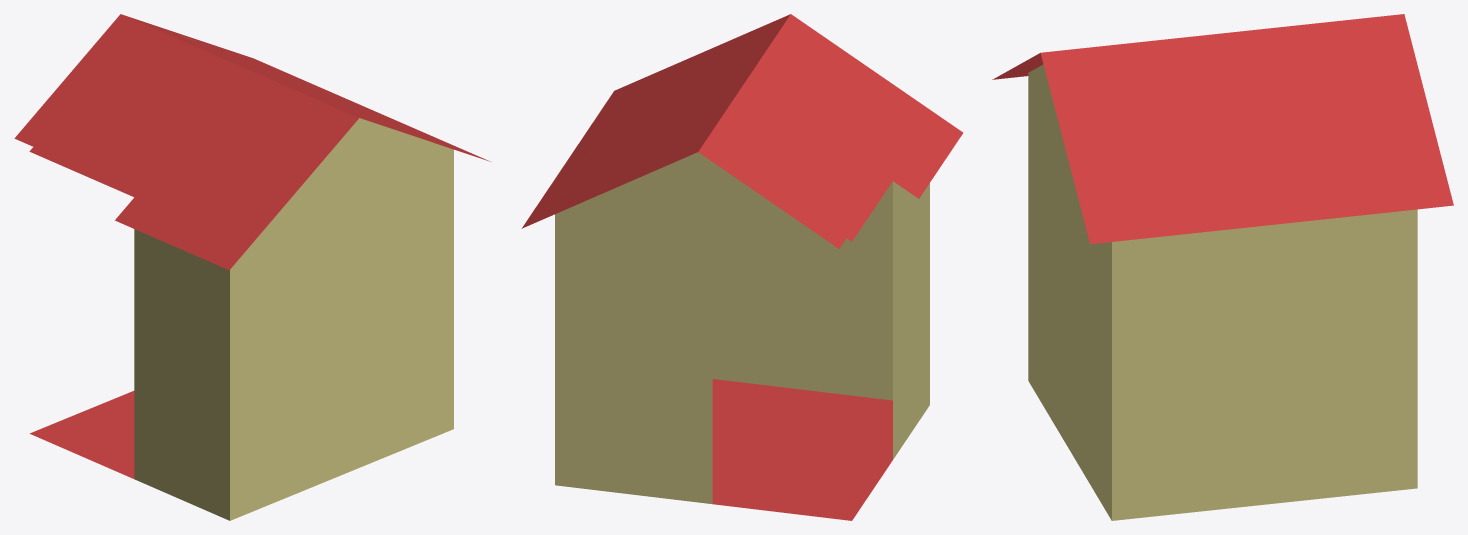
The picture shows the model from 3 angles, left to right: view 1: azimuth 30°, elevation 25°; view 2: azimuth 150°, elevation 25°; view 3: azimuth 270°, elevation 25°; orthographic projection. The views are drawn at different scales.
Size of the model in its own units: 11.13 by 11.54 by 11.04.
